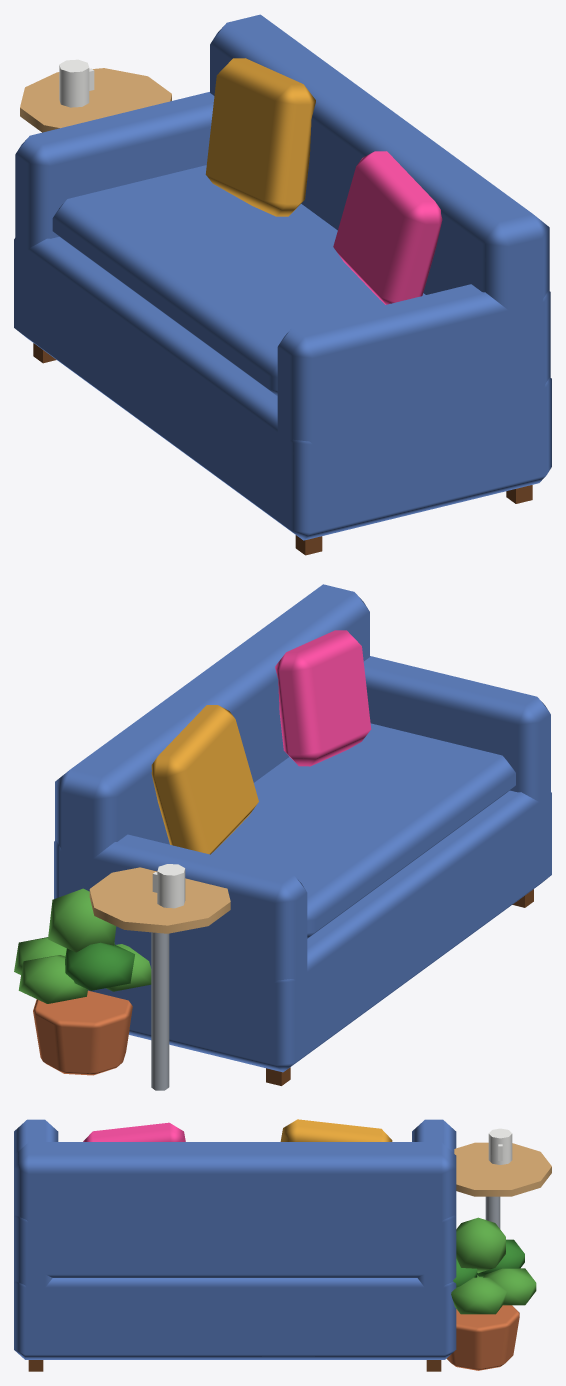
Rendered from station_intake_ausstattung_3_2.glb.
3 renders of one model, top to bottom at view 1: azimuth 30°, elevation 25°; view 2: azimuth 150°, elevation 25°; view 3: azimuth 270°, elevation 25°, orthographic. The views are drawn at different scales.
Visible parts, largest first — view 1: station_intake_ausstattung_3_2; view 2: station_intake_ausstattung_3_2; view 3: station_intake_ausstattung_3_2.
Part boxes in pixels (bbox=[...]): station_intake_ausstattung_3_2: bbox=[14, 14, 551, 555]; station_intake_ausstattung_3_2: bbox=[14, 584, 551, 1090]; station_intake_ausstattung_3_2: bbox=[14, 1119, 551, 1371].
Bounding box in the file's own units: 0.6554 × 0.6844 × 1.46.
